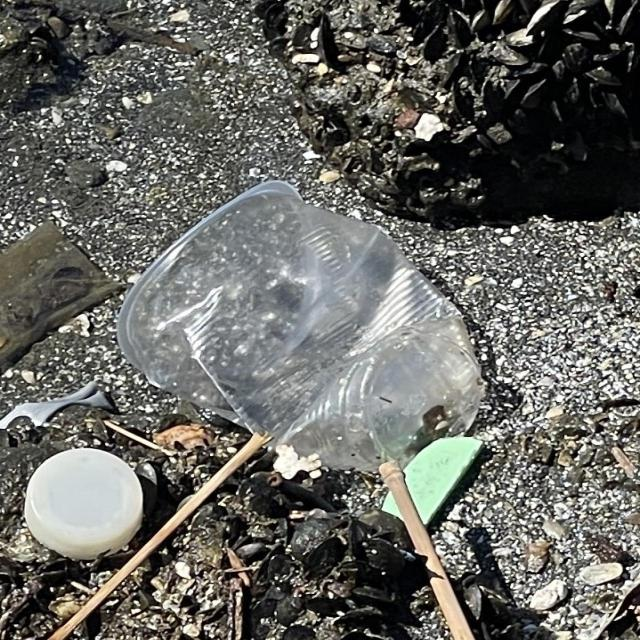plastic_waste: (113, 181, 487, 485), (27, 449, 145, 562)
